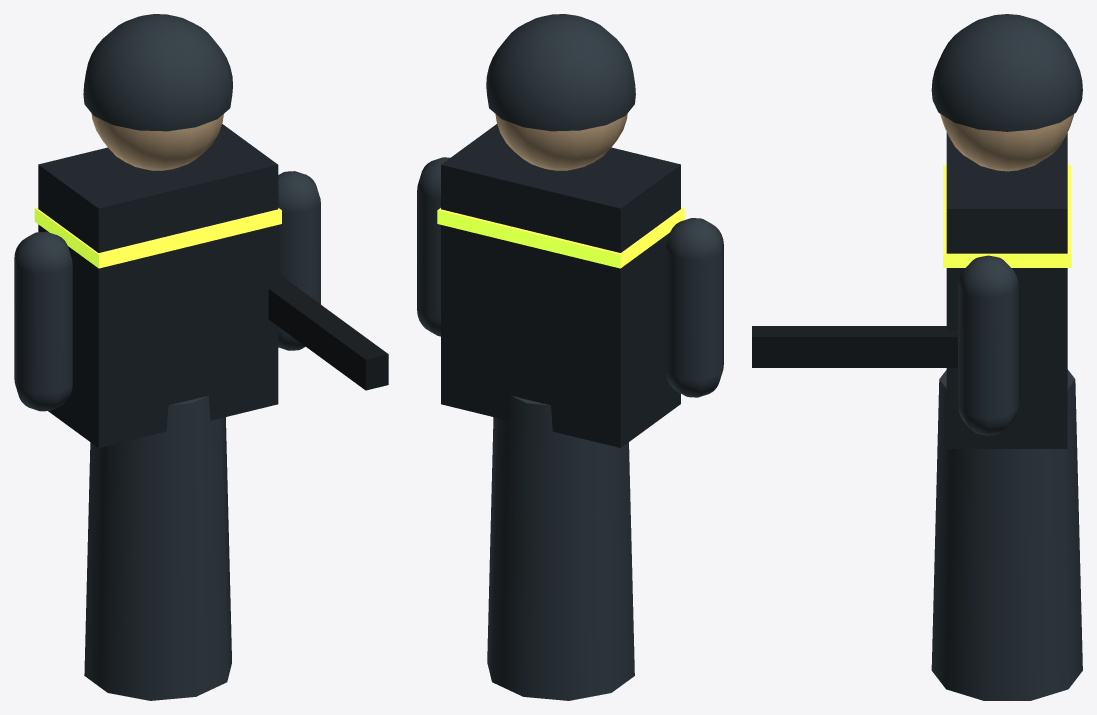
File: operator.glb
3 views of the same model, side by side, from view 1: azimuth 30°, elevation 25°; view 2: azimuth 150°, elevation 25°; view 3: azimuth 270°, elevation 25° (orthographic).
Size of the model in its own units: 0.92 by 1.9 by 0.875.
